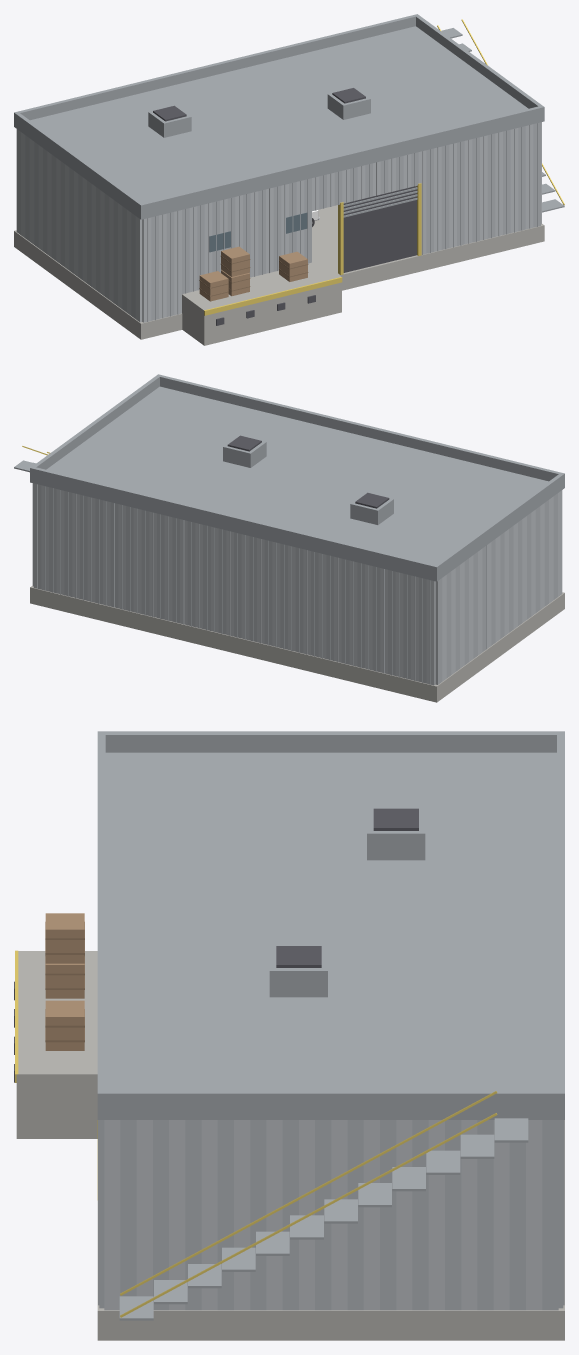
File: city_ring.glb
3 renders of one model, top to bottom at view 1: azimuth 30°, elevation 25°; view 2: azimuth 150°, elevation 25°; view 3: azimuth 270°, elevation 25°, orthographic. The views are drawn at different scales.
Visible parts, largest first — view 1: cr_warehouse_mesh; view 2: cr_warehouse_mesh; view 3: cr_warehouse_mesh.
Boxes of the visible parts, x1,y1,x2,y2 form: cr_warehouse_mesh: (14,14,564,345); cr_warehouse_mesh: (14,374,564,702); cr_warehouse_mesh: (14,731,564,1340).
Size of the model in its own units: 28.13 by 8.8 by 16.98.
